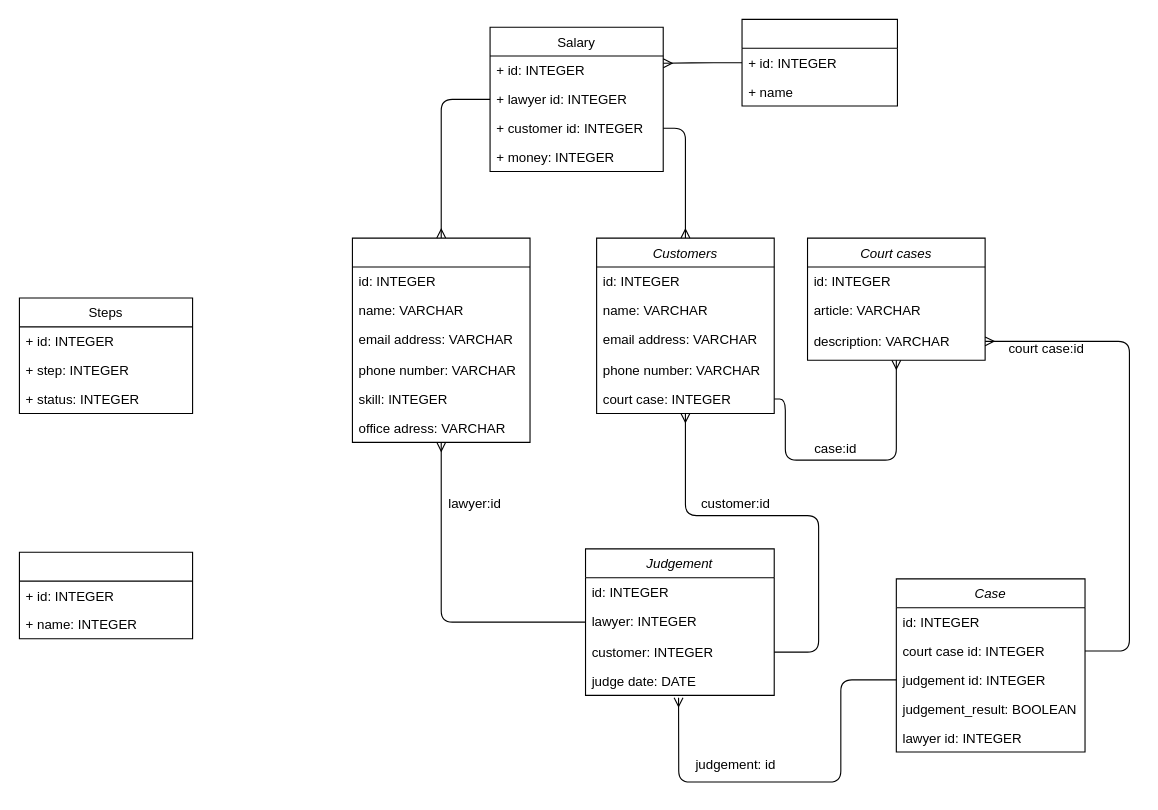
Some shapes in this 1158 by 810 pixel diagram are drawn without their labels. Each missing label, with the box of its shape:
Accountants: (741, 18, 897, 106)
Admins: (18, 551, 193, 639)
Lawyers: (351, 237, 530, 442)
